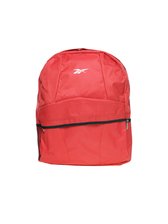bag: (33, 46, 136, 168)
